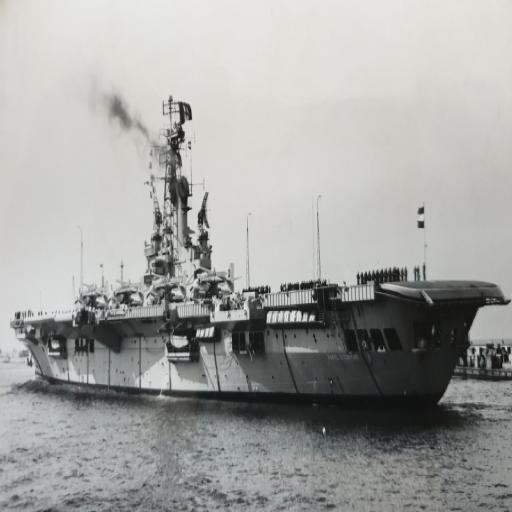Portanaves: (6, 89, 509, 417)
